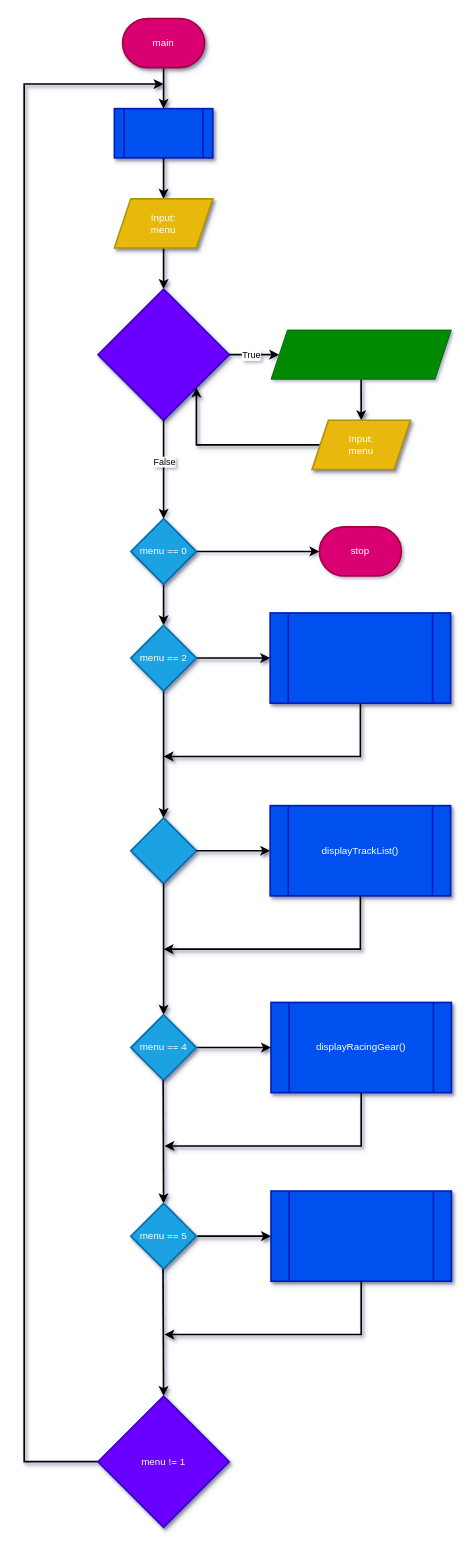
Image size: 476x1552. Some labels were removed from this diagram. The centre of each missing label's shape, as x and y in pixels:
cin.fail() || (menu < 0 || menu >5): pixel 164 355
displayEngineCapacities(18, 'Y'): pixel 361 1237
displayMenu(): pixel 164 134
displayRaceFormat("Group"): pixel 361 658
menu == 3: pixel 164 851
Prompt: "Please enter a valid option (0 - 5): ": pixel 360 354
